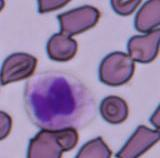N: (23, 70, 96, 130)
